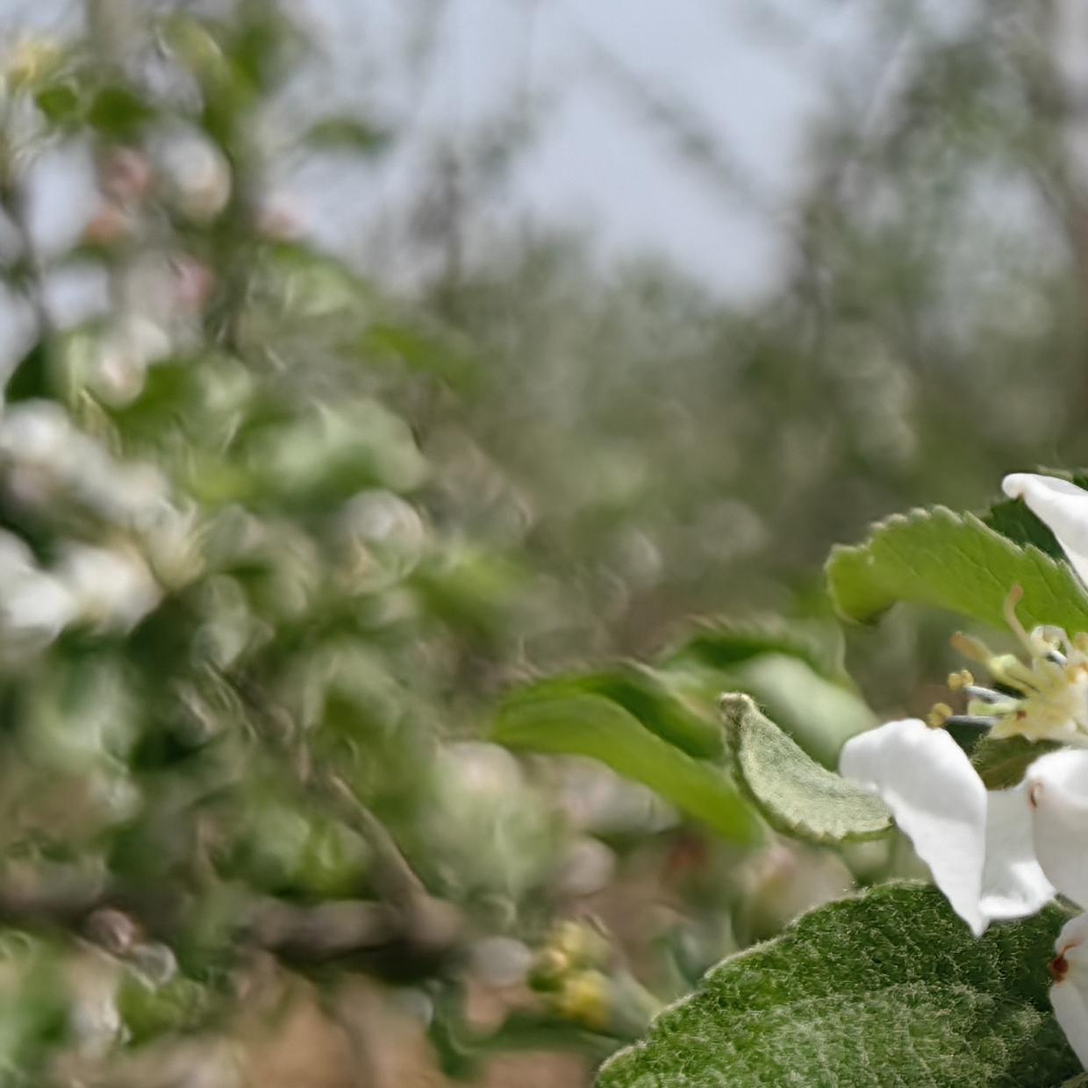apple_flower: (809, 449, 1088, 1088)
